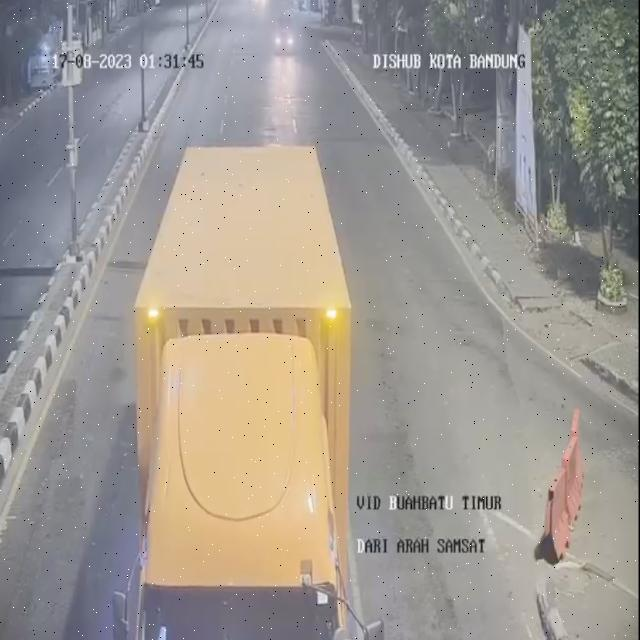cars: (272, 10, 300, 59)
truck: (126, 124, 367, 638)
